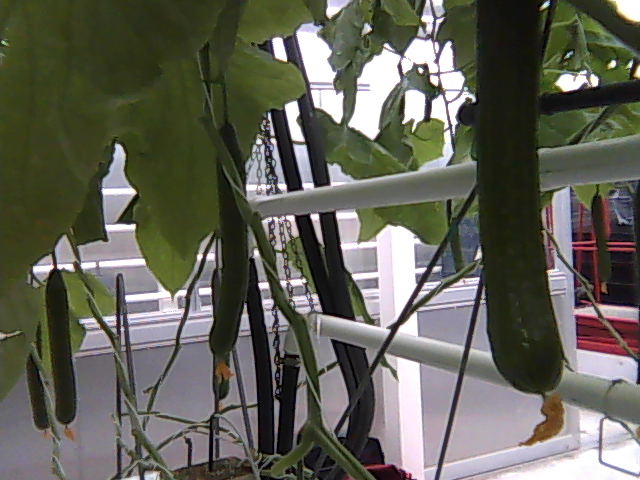concombre: (474, 4, 568, 442), (205, 119, 250, 383)
